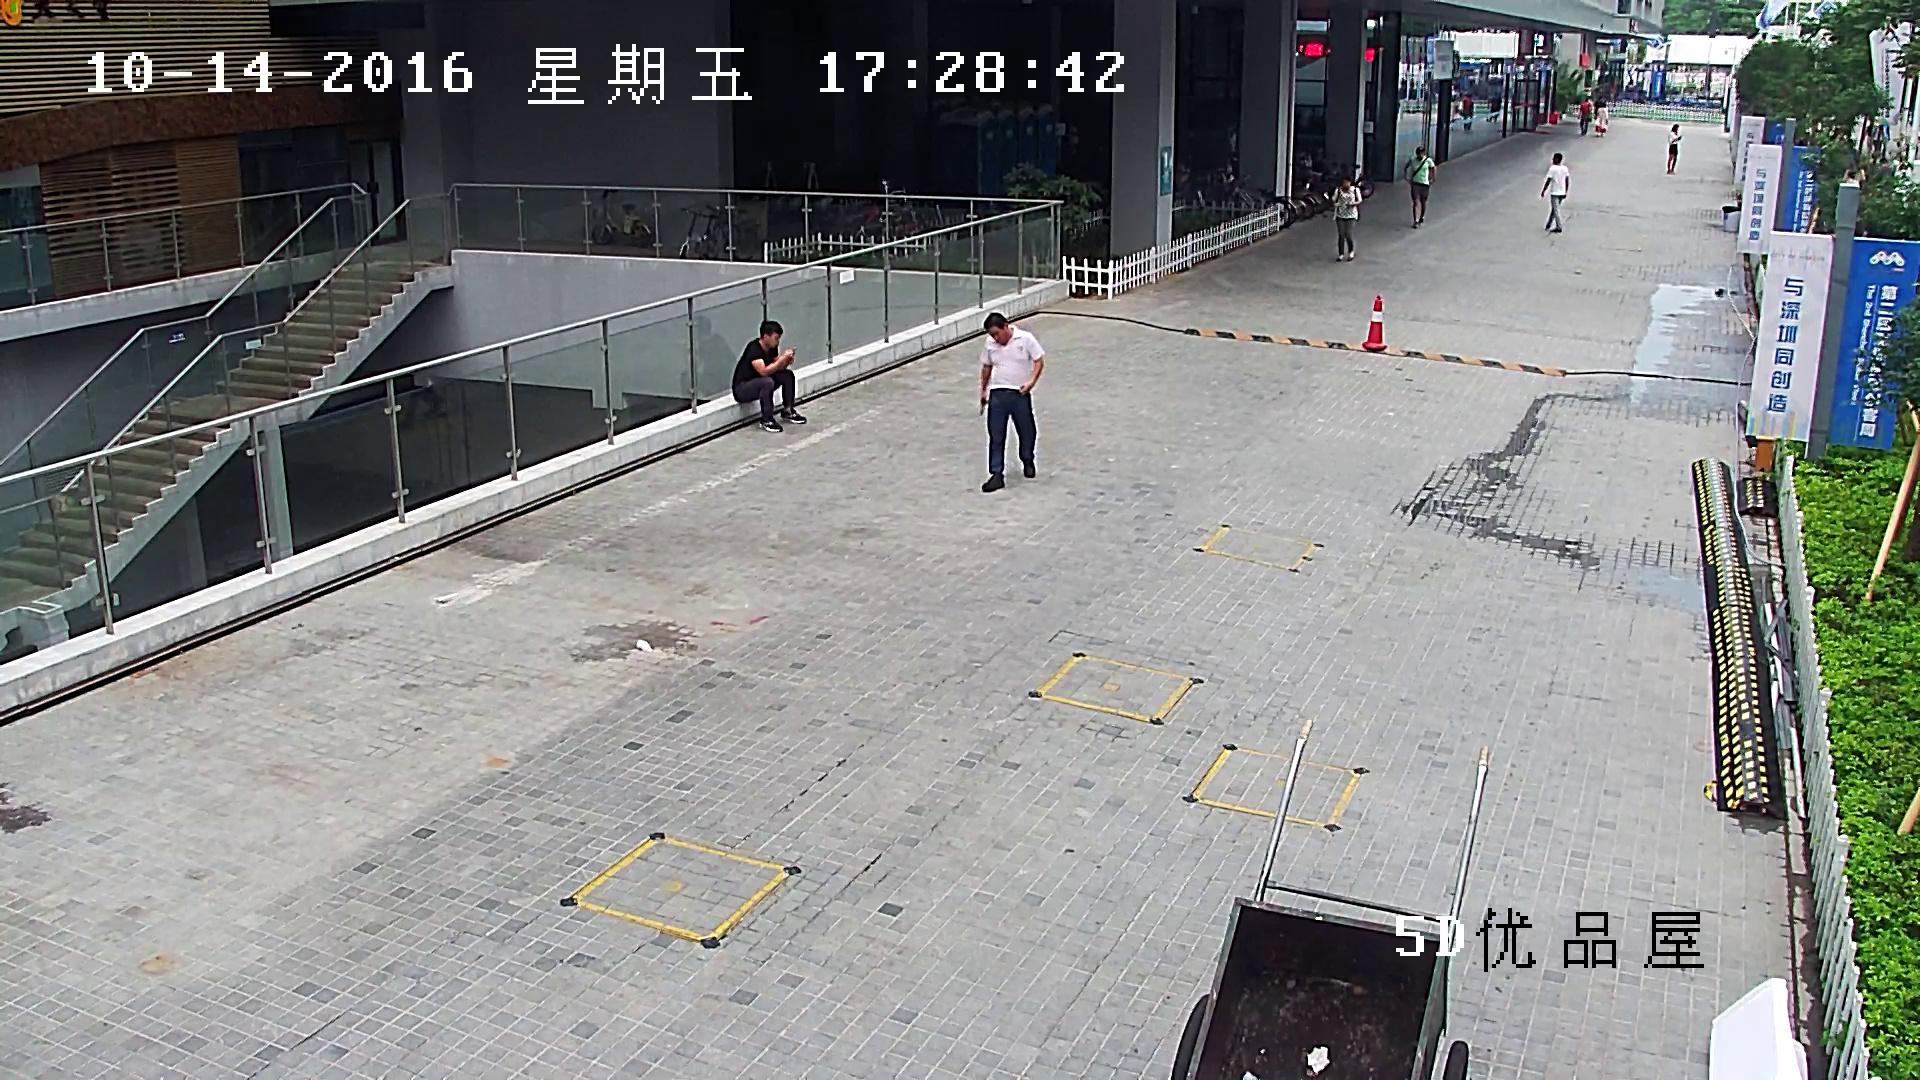person: (975, 306, 1043, 492), (731, 317, 809, 432), (678, 316, 736, 411), (1329, 173, 1363, 263), (1403, 146, 1437, 230), (1540, 152, 1569, 233), (1665, 123, 1682, 176), (1219, 117, 1238, 156), (1577, 96, 1592, 136), (1459, 91, 1473, 131), (1593, 102, 1608, 138), (1450, 97, 1457, 134)
